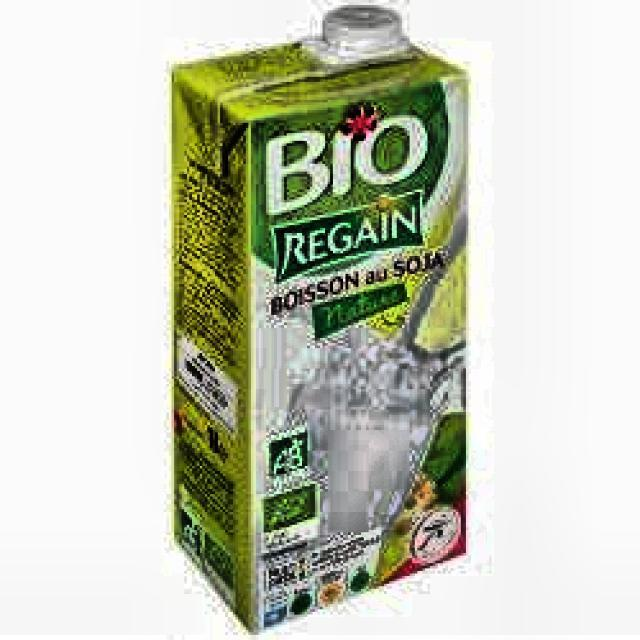cardboard: (166, 2, 468, 632)
